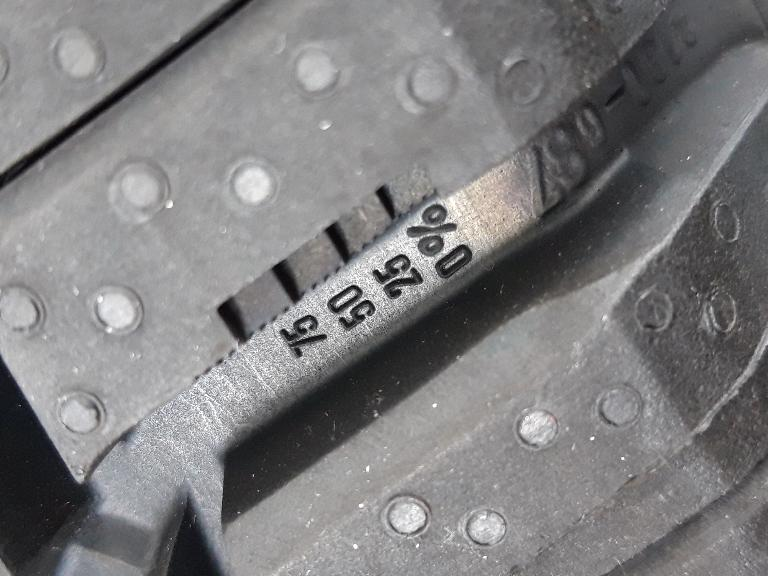temoin:100: (191, 156, 450, 394)
